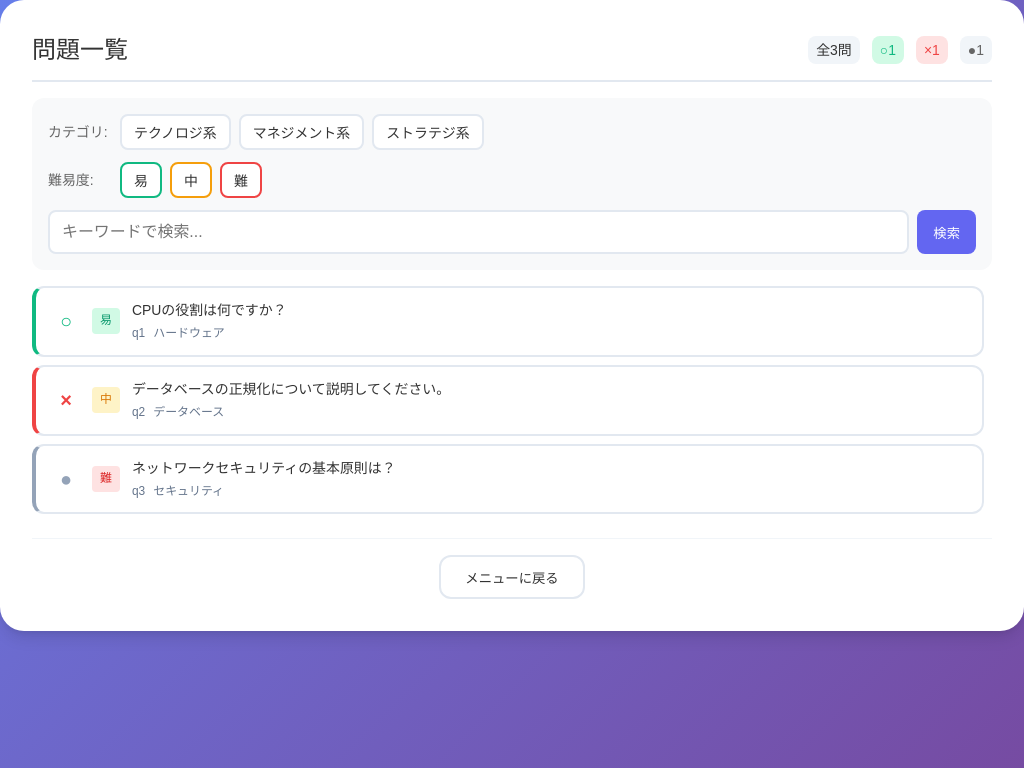
QuestionList › search filter › should filter questions by search text
Expected: the text "CPUの役割は何ですか？" is shown, [132, 302, 287, 318]
Type "CPU" into the field with placeholder "キーワードで検索...". click: (479, 232)
box: [48, 210, 909, 254]
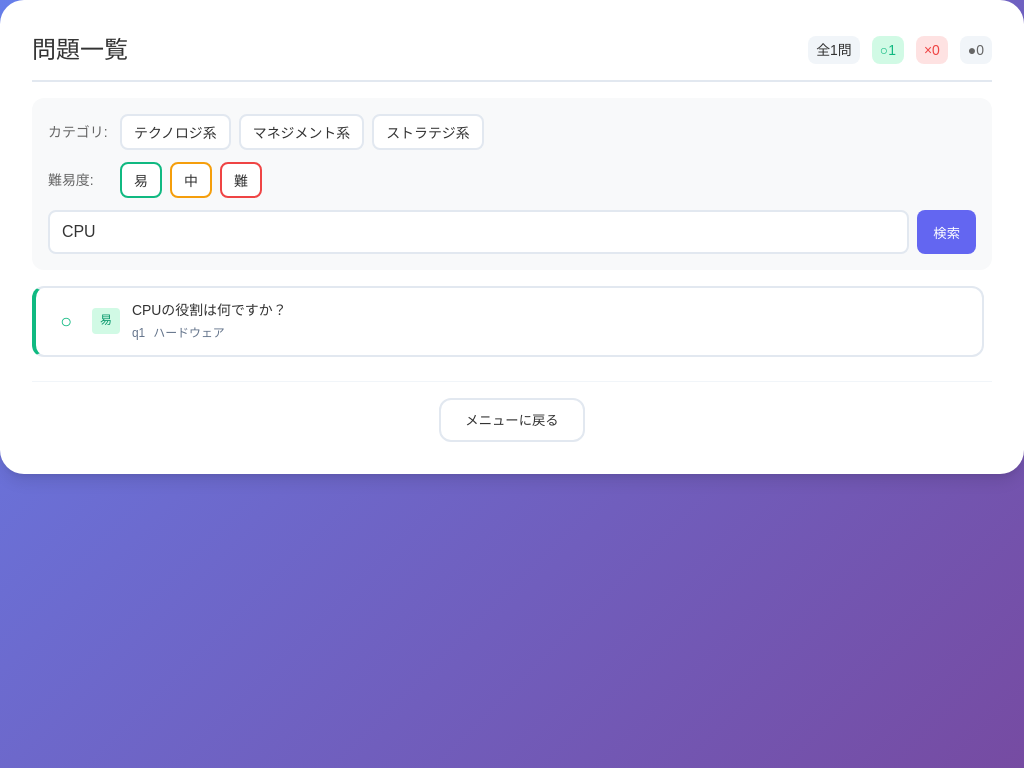
Expected: the text "CPUの役割は何ですか？" is shown, [132, 302, 287, 318]
Now the button "データベースの正規化について説明してください。" is gone
